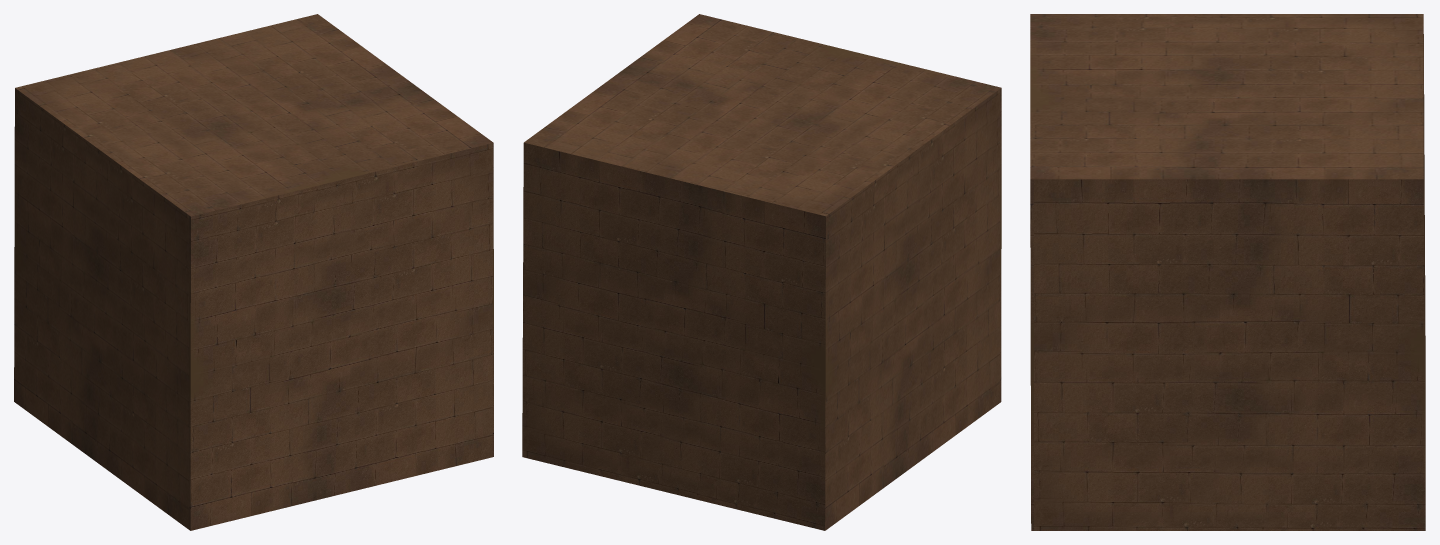
Rendered from cellarwall.glb.
3 renders of one model, left to right at view 1: azimuth 30°, elevation 25°; view 2: azimuth 150°, elevation 25°; view 3: azimuth 270°, elevation 25°, orthographic. The views are drawn at different scales.
Parts seen in each view (by area): view 1: CellarWall; view 2: CellarWall; view 3: CellarWall.
Part boxes in pixels (x1,y1,x2,y2): CellarWall: (14,14,493,530); CellarWall: (522,14,1001,530); CellarWall: (1030,14,1425,530).
Bounding box in the file's own units: 2.01 × 1.99 × 2.03.
Materials: 1 (1 with a texture image).
